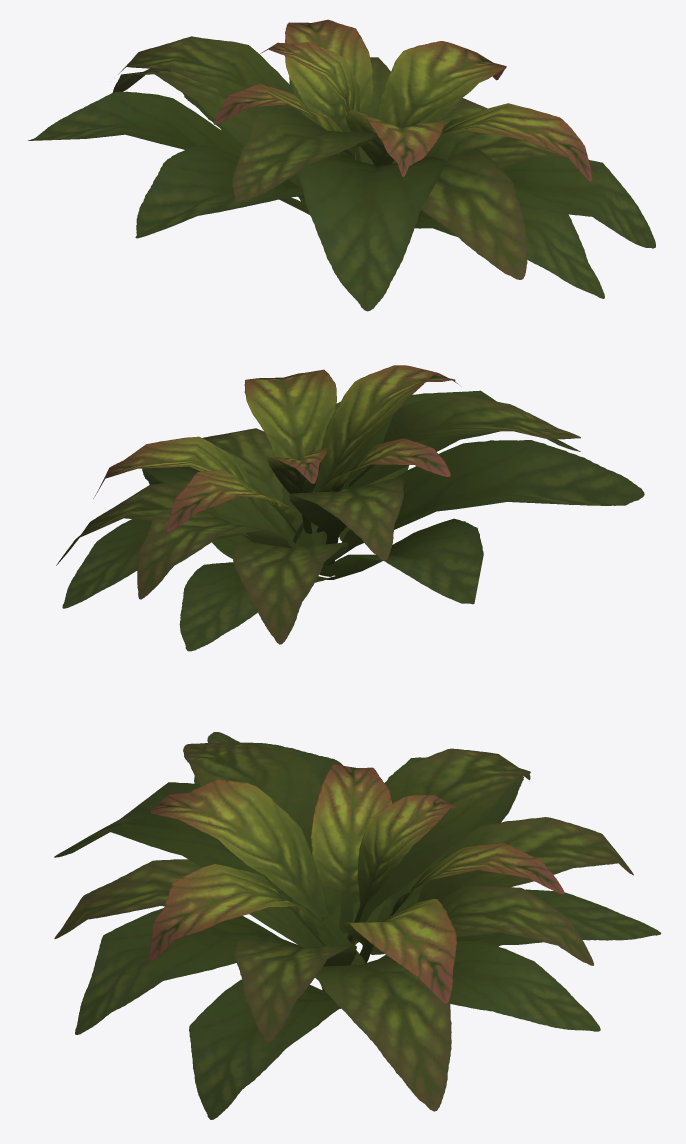
Rendered from 2_Plant_GuanMu_02.FBX.
The picture shows the model from 3 angles, top to bottom: view 1: azimuth 30°, elevation 25°; view 2: azimuth 150°, elevation 25°; view 3: azimuth 270°, elevation 25°; orthographic projection. The views are drawn at different scales.
Visible parts, largest first — view 1: 2_Plant_GuanMu_02; view 2: 2_Plant_GuanMu_02; view 3: 2_Plant_GuanMu_02.
Part boxes in pixels (x1,y1,x2,y2): 2_Plant_GuanMu_02: [28, 19, 655, 311]; 2_Plant_GuanMu_02: [56, 365, 644, 651]; 2_Plant_GuanMu_02: [54, 732, 661, 1119].
Size of the model in its own units: 96.95 by 32.83 by 91.86.
Materials: 1 (1 with a texture image).
